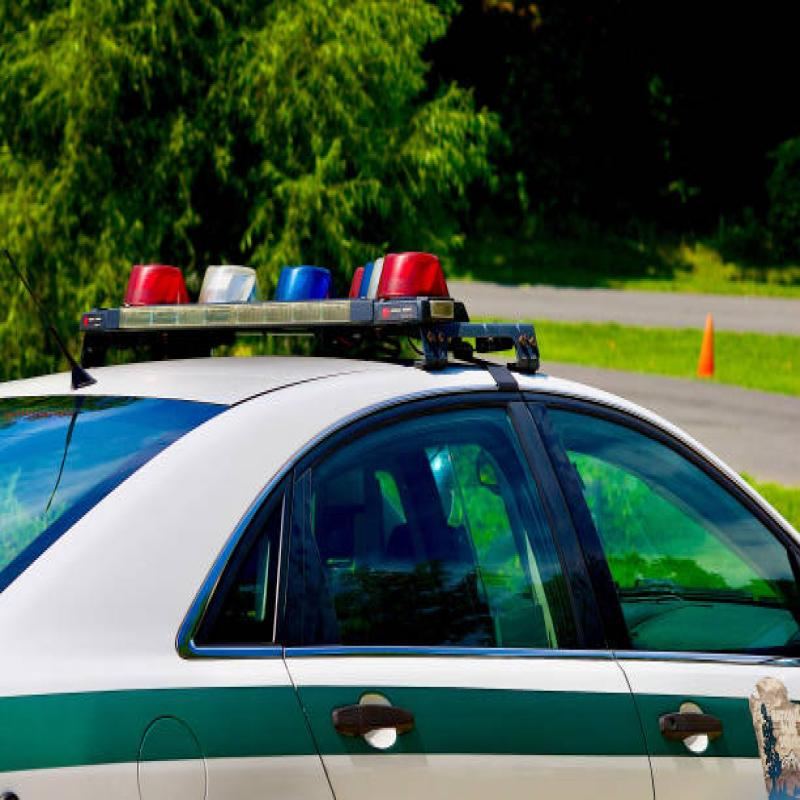AmbulanceSiren: (114, 218, 445, 333)
